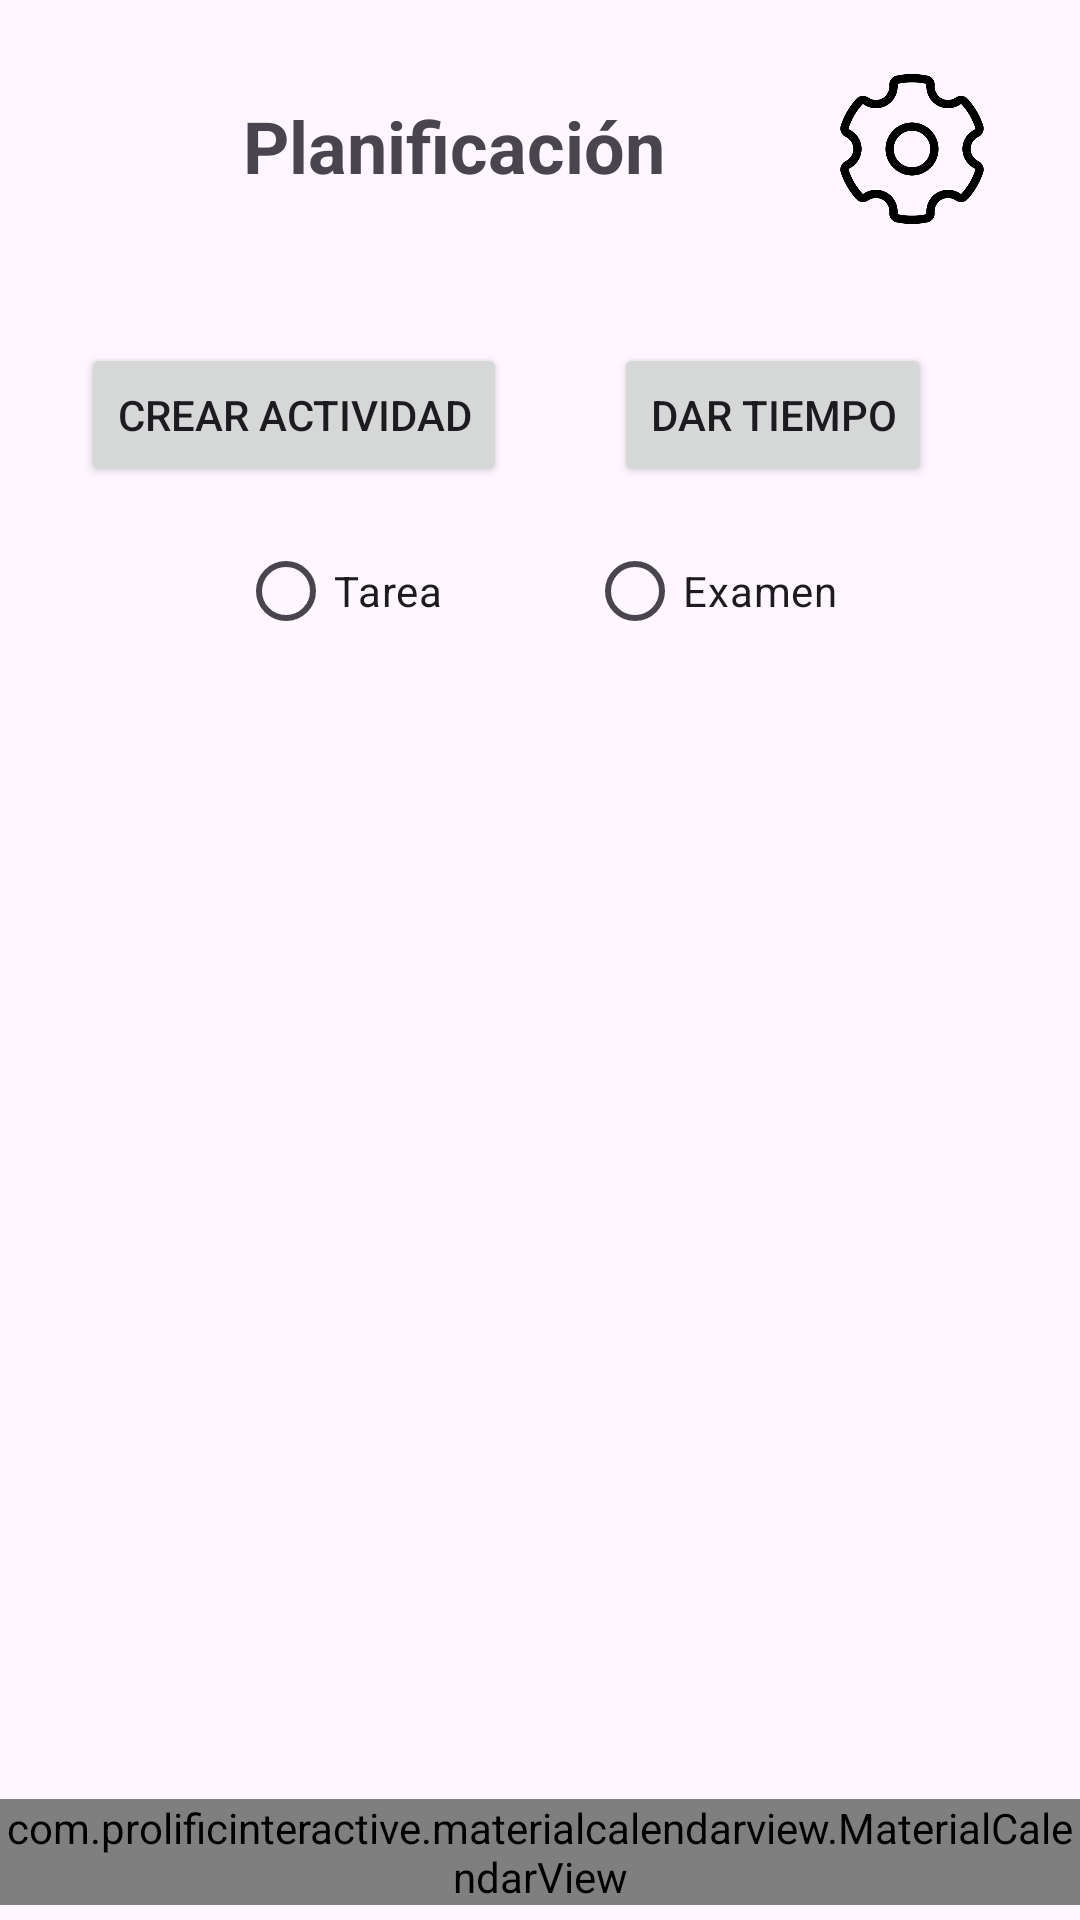

Icon click points for this 1080w x 1920h phone screenshot, format (x,y):
settings: (912,149)
